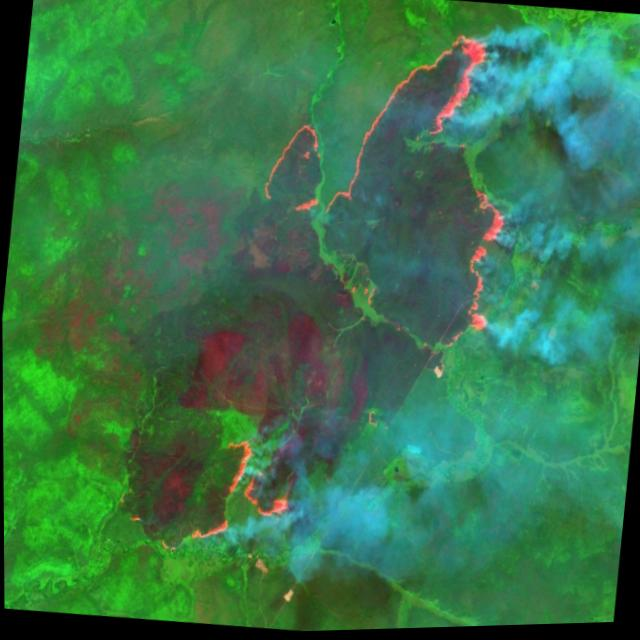fire: (240, 16, 534, 366), (118, 429, 296, 568)
